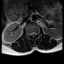CCS_normal: (32, 29, 34, 39)
LFS_normal: (36, 29, 38, 36)
LLS_normal: (34, 29, 36, 37)
RFS_normal: (28, 30, 30, 37)
RLS_normal: (30, 30, 32, 37)
